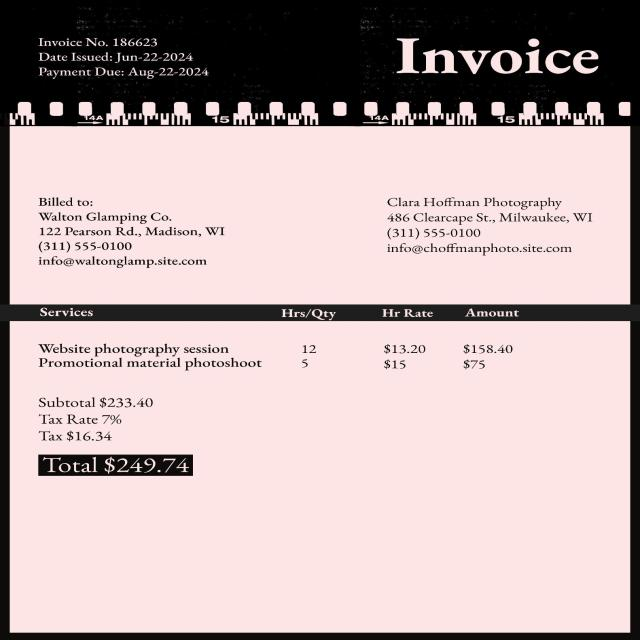paragraph: (19, 182, 242, 278), (34, 386, 214, 486), (382, 188, 605, 263), (388, 16, 605, 80), (24, 33, 222, 84)
table: (17, 292, 539, 378)
